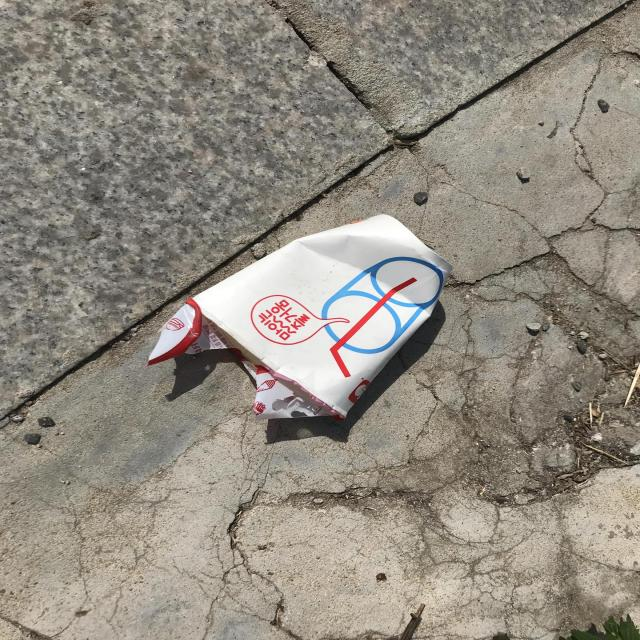paperpack: (147, 214, 452, 421)
